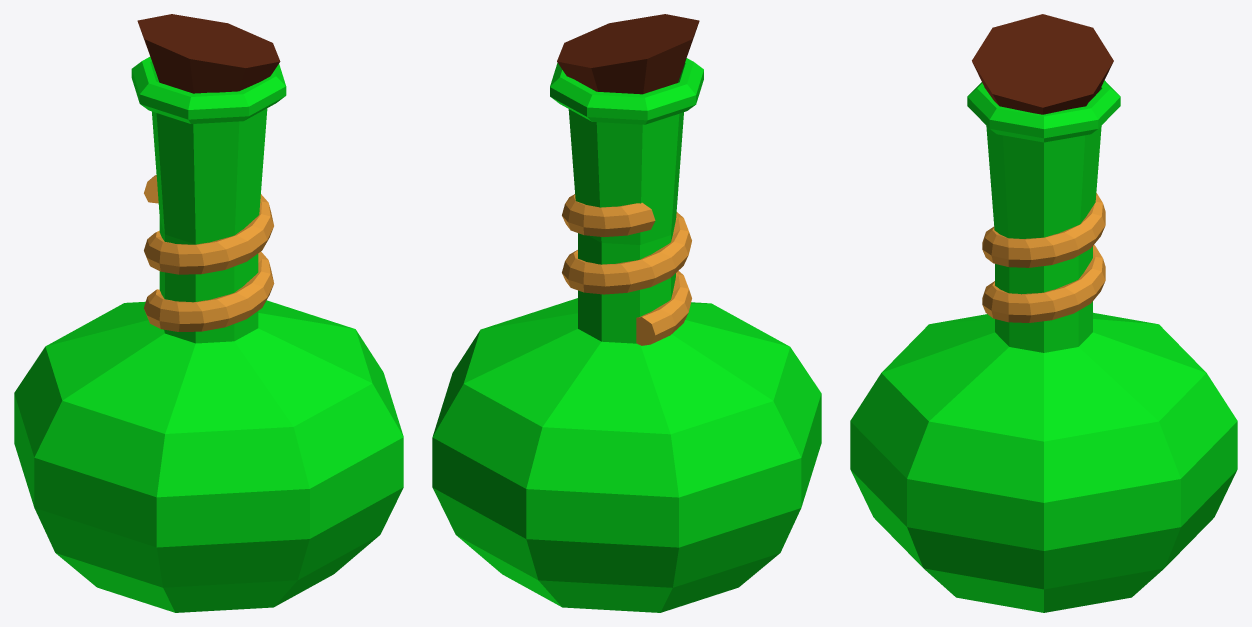
The model's file is healthPotionModel.fbx.
3 views of the same model, side by side, from view 1: azimuth 30°, elevation 25°; view 2: azimuth 150°, elevation 25°; view 3: azimuth 270°, elevation 25° (orthographic). The views are drawn at different scales.
Visible parts, largest first — view 1: Circle, Circle.001, Circle.002; view 2: Circle, Circle.001, Circle.002; view 3: Circle, Circle.002, Circle.001.
Part boxes in pixels (left/top/right/bottom): Circle: left=14, top=57, right=403, bottom=612; Circle.001: left=144, top=175, right=274, bottom=331; Circle.002: left=137, top=14, right=280, bottom=93; Circle: left=432, top=58, right=821, bottom=612; Circle.001: left=562, top=194, right=691, bottom=345; Circle.002: left=557, top=14, right=699, bottom=94; Circle: left=850, top=80, right=1237, bottom=612; Circle.002: left=972, top=14, right=1113, bottom=114; Circle.001: left=982, top=193, right=1105, bottom=322.
Bounding box in the file's own units: 249 × 367 × 249.
